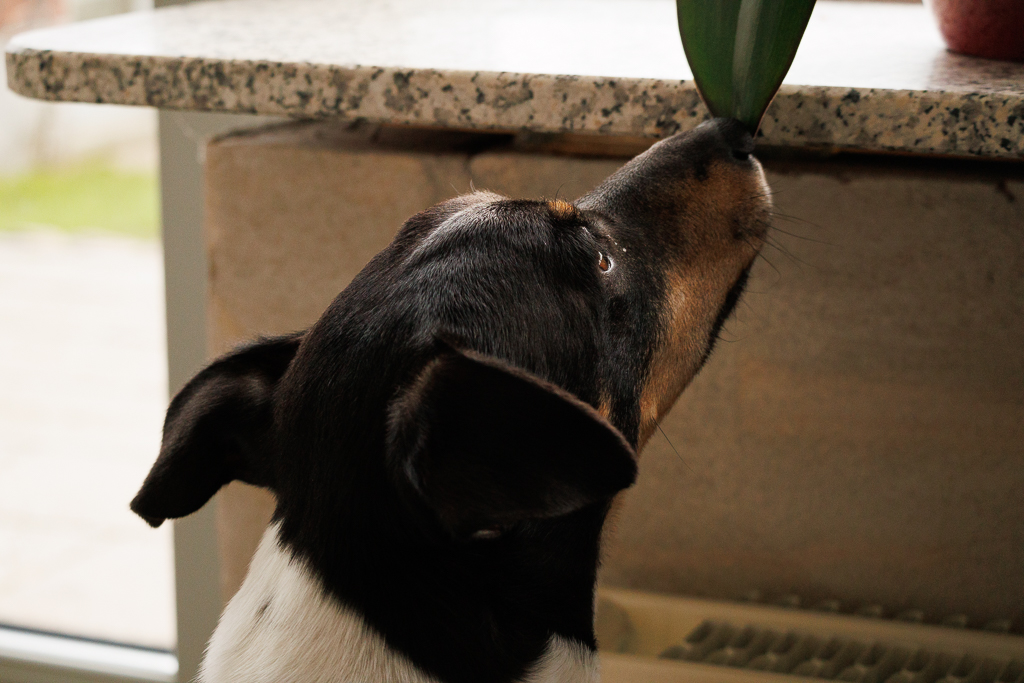Dog: (116, 110, 848, 683)
